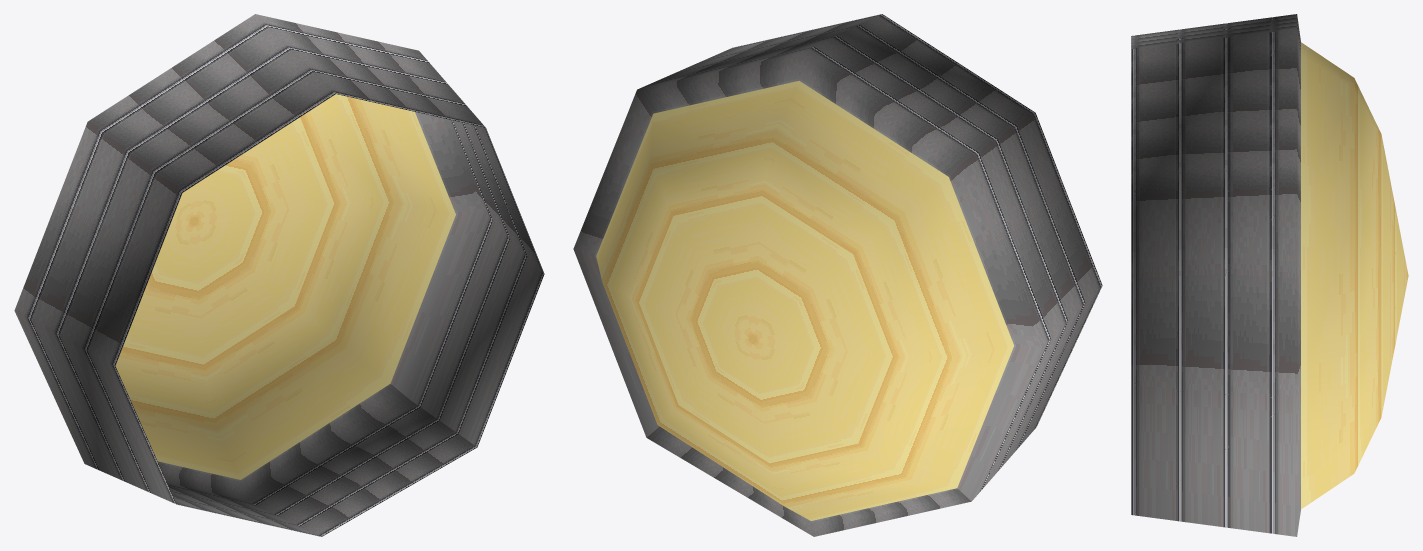
Rendered from 2788item2788e.gltf.
3 views of the same model, side by side, from view 1: azimuth 30°, elevation 25°; view 2: azimuth 150°, elevation 25°; view 3: azimuth 270°, elevation 25° (orthographic). The views are drawn at different scales.
Parts seen in each view (by area): view 1: 2788item2788e; view 2: 2788item2788e; view 3: 2788item2788e.
Part boxes in pixels (<box>): 2788item2788e: <box>14,14,544,536</box>; 2788item2788e: <box>573,14,1102,536</box>; 2788item2788e: <box>1131,14,1408,536</box>.
Bounding box in the file's own units: 0.6376 × 0.6268 × 0.3209.
Materials: 2 (2 with a texture image).
